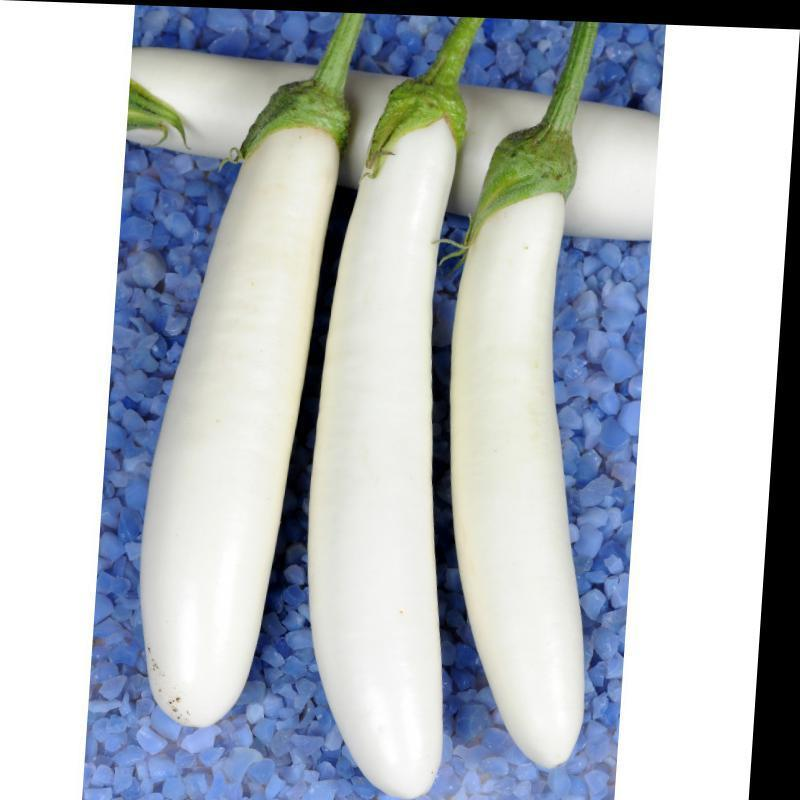eggplant: (118, 38, 598, 799)
